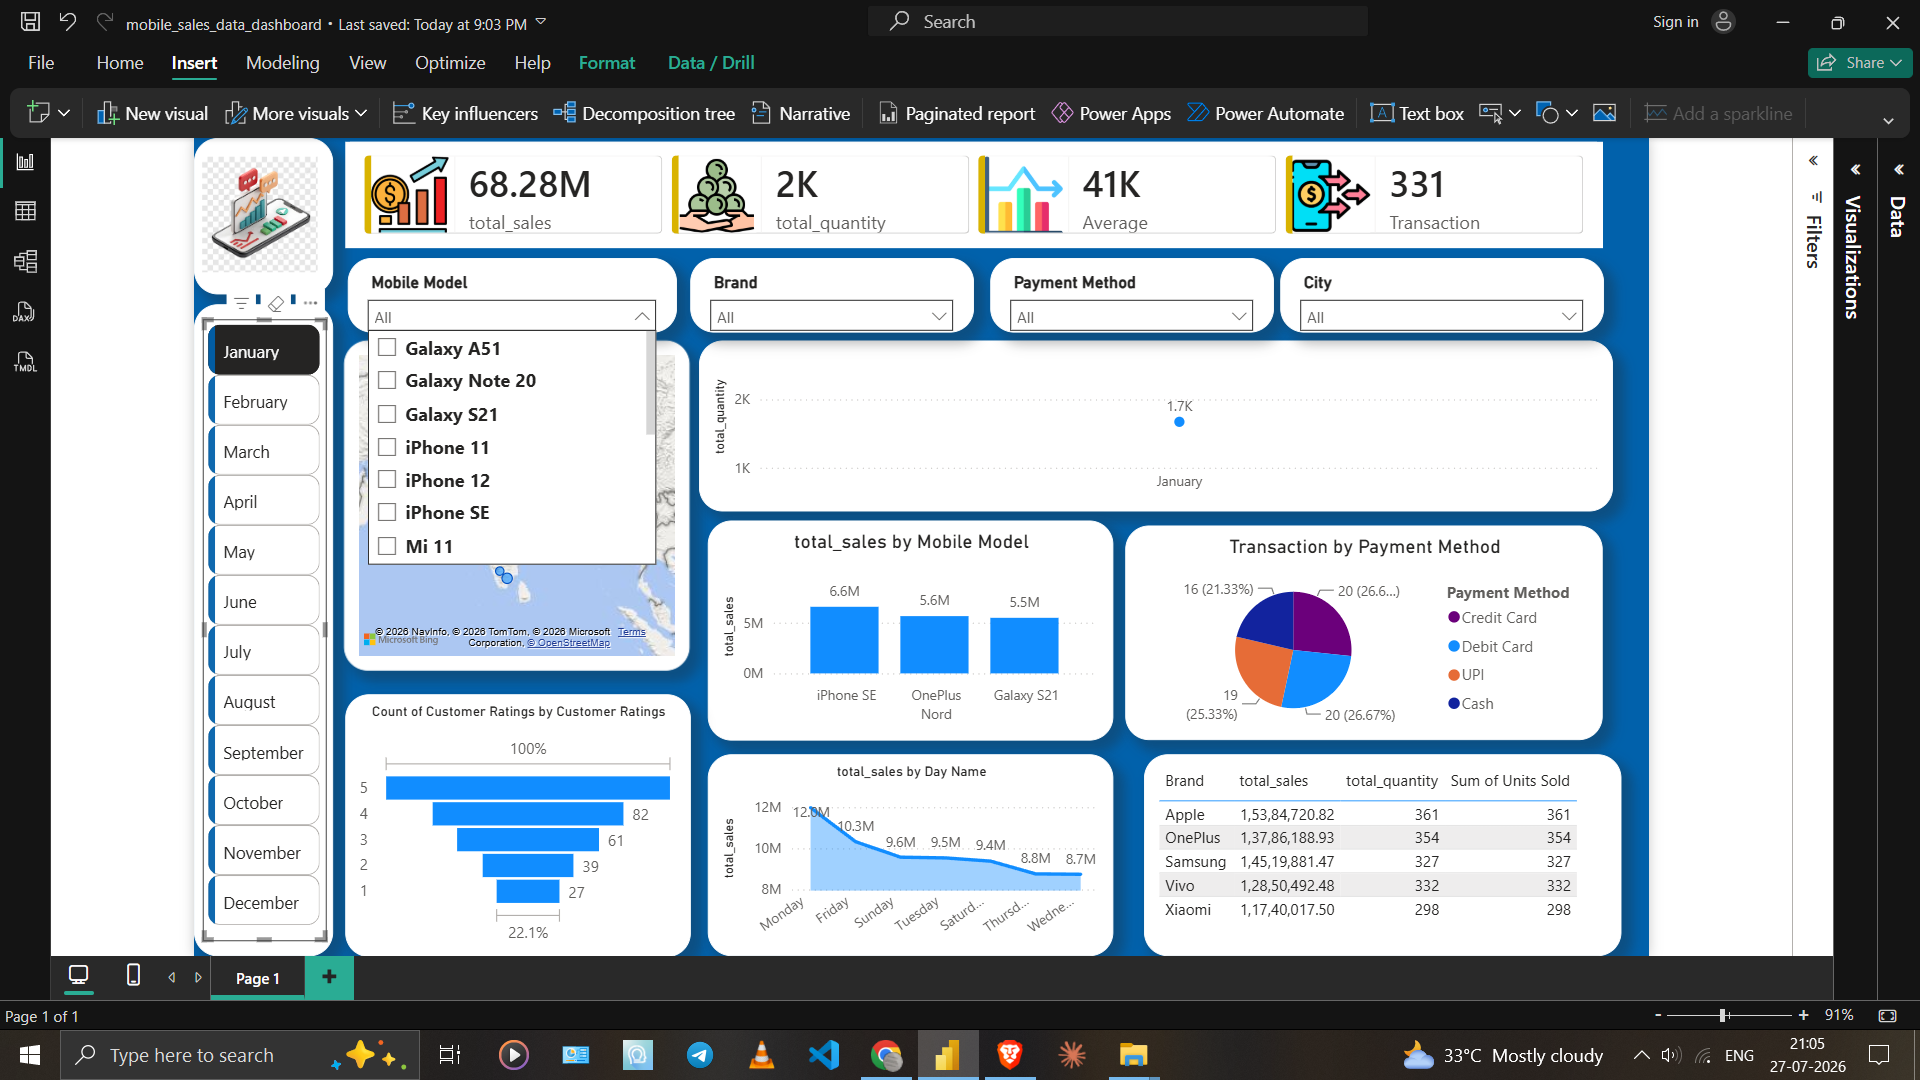

Layout of this report page (visuals, bound fields, positions):
{"tool":"powerbi","page":{"name":"Page 1","canvas":[1280,720],"ordinal":0},"visuals":[{"type":"shape","box":[0,0,122.3,138],"z":0},{"type":"shape","box":[0,146.5,122.3,573.8],"z":2000},{"type":"advancedSlicerVisual","fields":{"Values":["sales_data.Date.Variation.Date Hierarchy.Month"]},"box":[7.3,159.8,108.9,547.1],"z":3000},{"type":"cardVisual","fields":{"Data":["sales_data.total_sales","sales_data.total_quantity","sales_data.transaction","sales_data.Transaction"]},"box":[133.2,3.6,1106.4,93.2],"z":4000},{"type":"map","fields":{"Category":["sales_data.City"],"Size":["sales_data.total_sales"]},"box":[131.9,177.9,303.8,290.5],"z":5000},{"type":"lineChart","fields":{"Category":["sales_data.Date.Variation.Date Hierarchy.Month","sales_data.Date.Variation.Date Hierarchy.Day"],"Y":["sales_data.total_quantity"]},"box":[444.2,178.1,803.8,150.1],"z":6000},{"type":"columnChart","fields":{"Category":["sales_data.Mobile Model"],"Y":["sales_data.total_sales"]},"box":[451.5,336.5,356.8,193.5],"z":7000},{"type":"pieChart","fields":{"Category":["sales_data.Payment Method"],"Y":["sales_data.Transaction"]},"box":[819.5,341.4,420,188.8],"z":8000},{"type":"funnel","fields":{"Category":["sales_data.Customer Ratings"],"Y":["CountNonNull(sales_data.Customer Ratings)"]},"box":[133.2,489,303.8,231.2],"z":9000},{"type":"areaChart","fields":{"Category":["sales_data.Day Name"],"Y":["sales_data.total_sales"]},"box":[451.5,542.3,357.1,177.9],"z":10000},{"type":"tableEx","fields":{"Values":["sales_data.Brand","sales_data.total_sales","sales_data.total_quantity","Sum(sales_data.Units Sold)"]},"box":[835.2,542.3,420,177.9],"z":10001},{"type":"slicer","fields":{"Values":["sales_data.Mobile Model"]},"box":[135.6,105.3,289.3,65.4],"z":10002},{"type":"slicer","fields":{"Values":["sales_data.Brand"]},"box":[437,105.3,249.4,65.4],"z":10003},{"type":"slicer","fields":{"Values":["sales_data.Payment Method"]},"box":[700.9,105.3,249.4,65.4],"z":10004},{"type":"slicer","fields":{"Values":["sales_data.City"]},"box":[955.1,105.3,284.5,65.4],"z":10005},{"type":"image","box":[0,16.9,116.2,101.7],"z":10006}]}

Visuals, with their boxes on the page's 1280x720 design canvas (x1, y1, x2, y2). These are canvas units, not pixel positions in the 1920x1080 screenshot, which may show the page scaled, cropped or inside an application window:
shape: select_region(0, 0, 122, 138)
shape: select_region(0, 146, 122, 720)
advancedSlicerVisual - sales_data.Date.Variation.Date Hierarchy.Month: select_region(7, 160, 116, 707)
cardVisual - sales_data.total_sales x sales_data.total_quantity: select_region(133, 4, 1240, 97)
map - sales_data.City x sales_data.total_sales: select_region(132, 178, 436, 468)
lineChart - sales_data.Date.Variation.Date Hierarchy.Month x sales_data.Date.Variation.Date Hierarchy.Day: select_region(444, 178, 1248, 328)
columnChart - sales_data.Mobile Model x sales_data.total_sales: select_region(452, 336, 808, 530)
pieChart - sales_data.Payment Method x sales_data.Transaction: select_region(820, 341, 1240, 530)
funnel - sales_data.Customer Ratings x CountNonNull(sales_data.Customer Ratings): select_region(133, 489, 437, 720)
areaChart - sales_data.Day Name x sales_data.total_sales: select_region(452, 542, 809, 720)
tableEx - sales_data.Brand x sales_data.total_sales: select_region(835, 542, 1255, 720)
slicer - sales_data.Mobile Model: select_region(136, 105, 425, 171)
slicer - sales_data.Brand: select_region(437, 105, 686, 171)
slicer - sales_data.Payment Method: select_region(701, 105, 950, 171)
slicer - sales_data.City: select_region(955, 105, 1240, 171)
image: select_region(0, 17, 116, 119)
